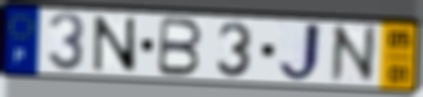3: (46, 11, 86, 74), (215, 20, 254, 79)
B: (154, 15, 205, 78)
J: (276, 20, 325, 85)
N: (329, 22, 378, 86), (91, 14, 139, 75)
